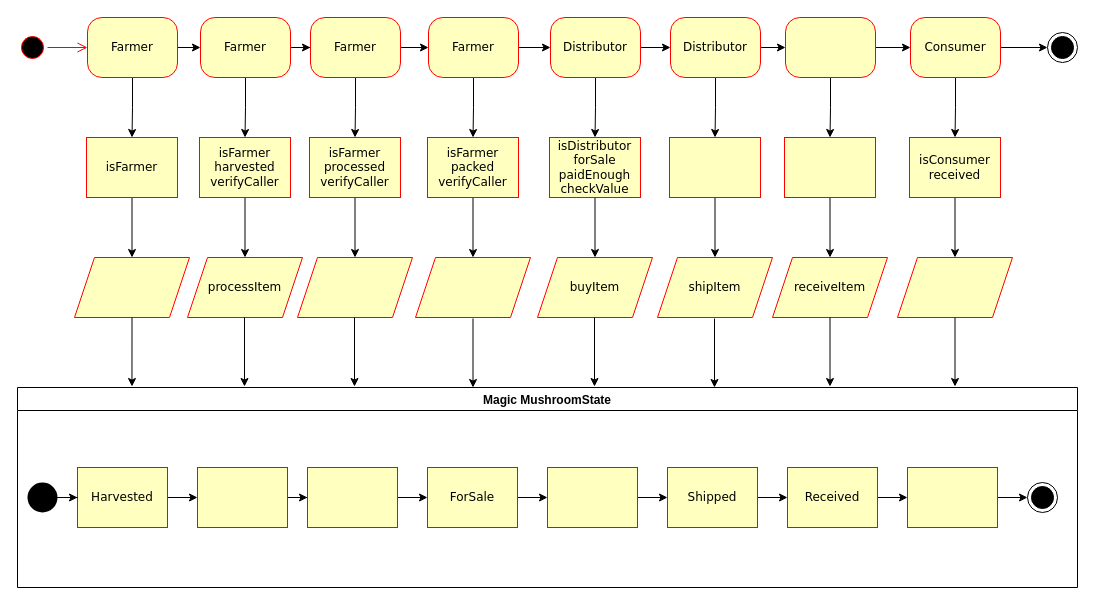
Image size: 1095x605. Some labels were removed from this diagram. Here are the shapes that lost their labels. From the top down, the box of each, then its label:
(784, 16, 876, 78): Retailer
(668, 136, 760, 198): isDistributor sold verifyCaller
(784, 136, 876, 198): isRetailer shipped
(74, 256, 190, 318): harvestItem
(296, 256, 412, 318): packItem
(414, 256, 530, 318): sellItem
(896, 256, 1012, 318): purchaseItem
(196, 466, 288, 528): Processed
(306, 466, 398, 528): Packed
(546, 466, 638, 528): Sold
(906, 466, 998, 528): Purchased
